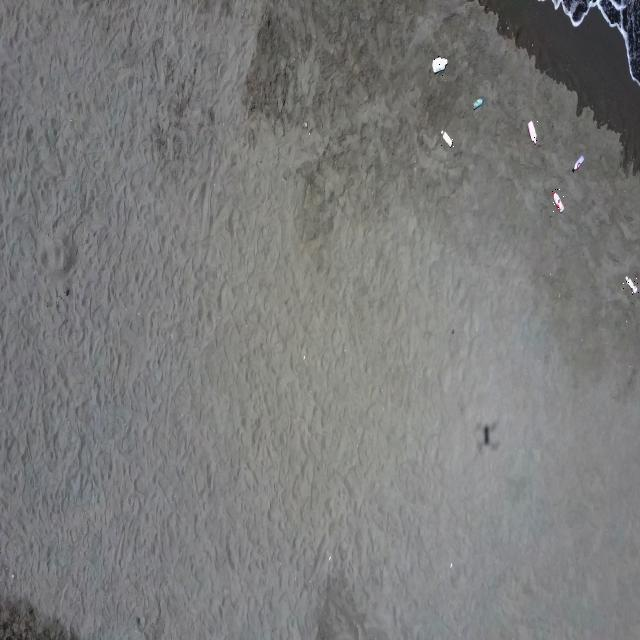plastic-bottle: (431, 56, 449, 76), (551, 189, 565, 213), (623, 275, 639, 296), (571, 154, 586, 173), (439, 130, 454, 148), (528, 120, 538, 145), (472, 97, 486, 112)
